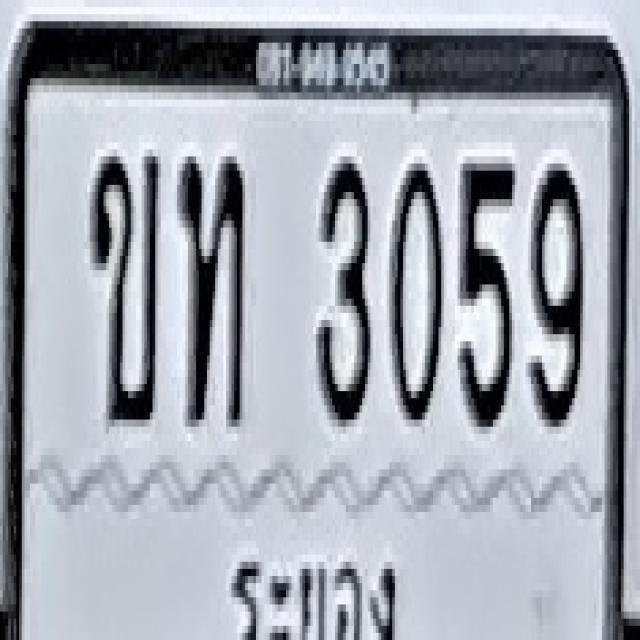-: (89, 149, 160, 427), (178, 153, 244, 423)
0: (390, 156, 441, 420)
3: (316, 153, 370, 423)
5: (459, 156, 513, 426)
9: (530, 160, 581, 423)
RYG: (221, 519, 404, 640)
